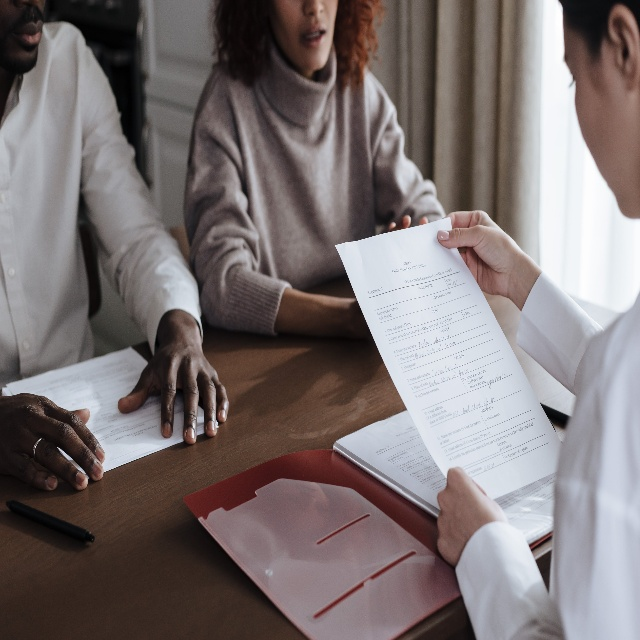Sin_guantes: (118, 337, 230, 444), (0, 398, 105, 499), (436, 209, 514, 296)
